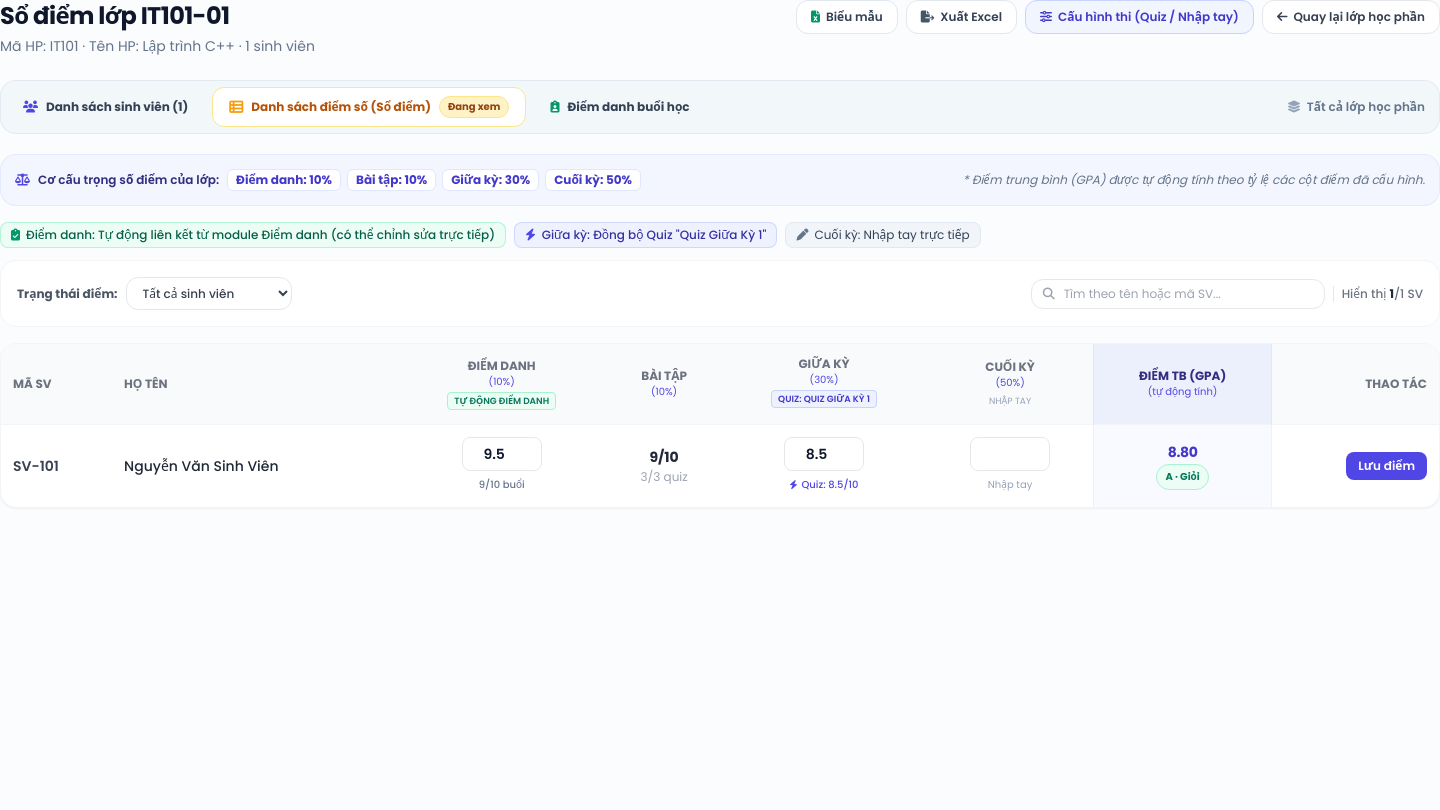
TeacherClassGradebook - Smart Grades & Syncing › opens Quiz Configuration modal allowing teacher to link or unlink online quizzes
Expected: the text "Nguyễn Văn Sinh Viên" is shown, x1=112 y1=424 x2=396 y2=507
// Button to open modal
Click the button "Cấu hình thi (Quiz / Nhập tay)" at (1139, 17), box x1=1025 y1=0 x2=1254 y2=34
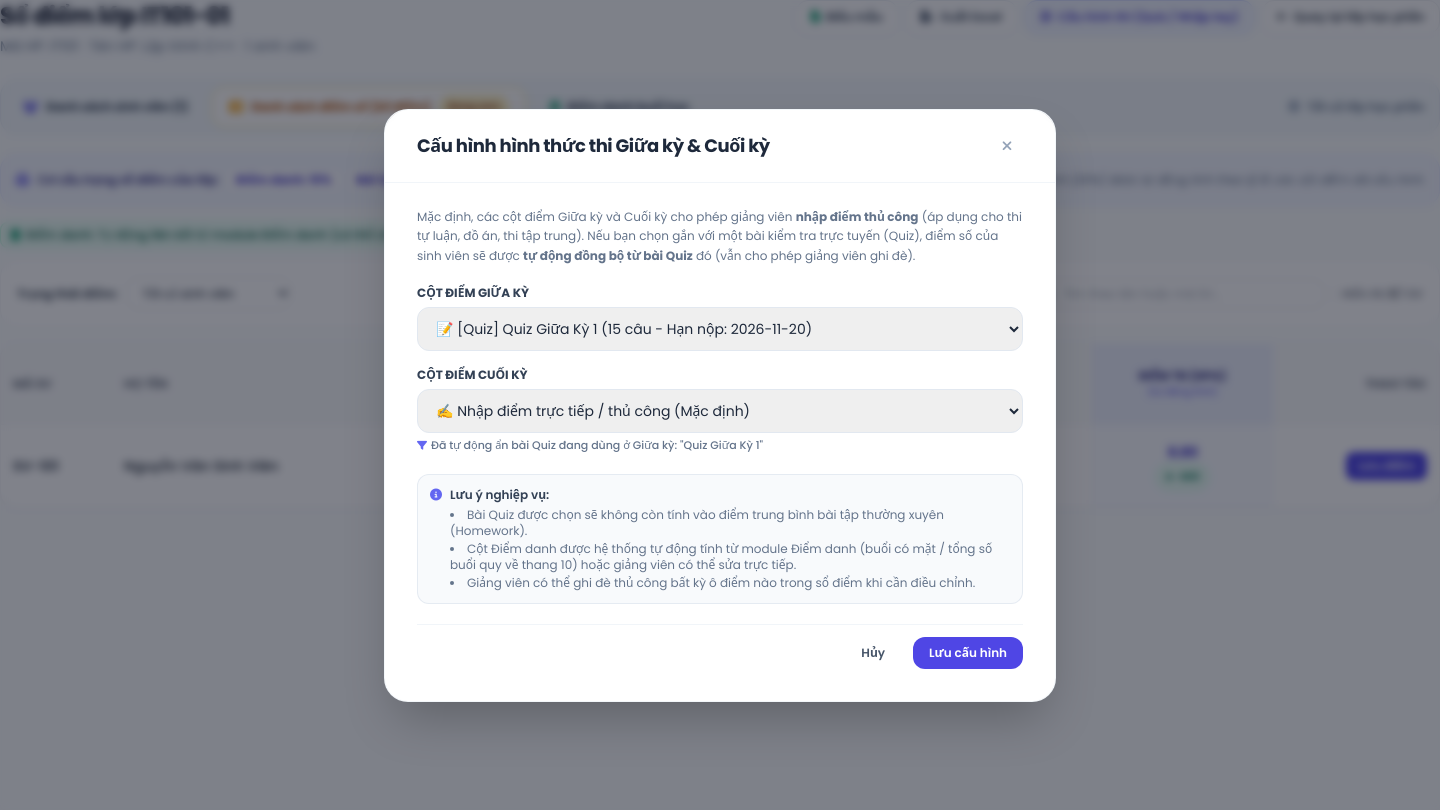
Result: the heading "Cấu hình hình thức thi Giữa kỳ & Cuối kỳ" is shown at x1=417 y1=132 x2=770 y2=160
Result: the dropdown labelled "Cột điểm Giữa kỳ" is shown at x1=417 y1=307 x2=1023 y2=351
Result: the dropdown labelled "Cột điểm Cuối kỳ" is shown at x1=417 y1=389 x2=1023 y2=433
